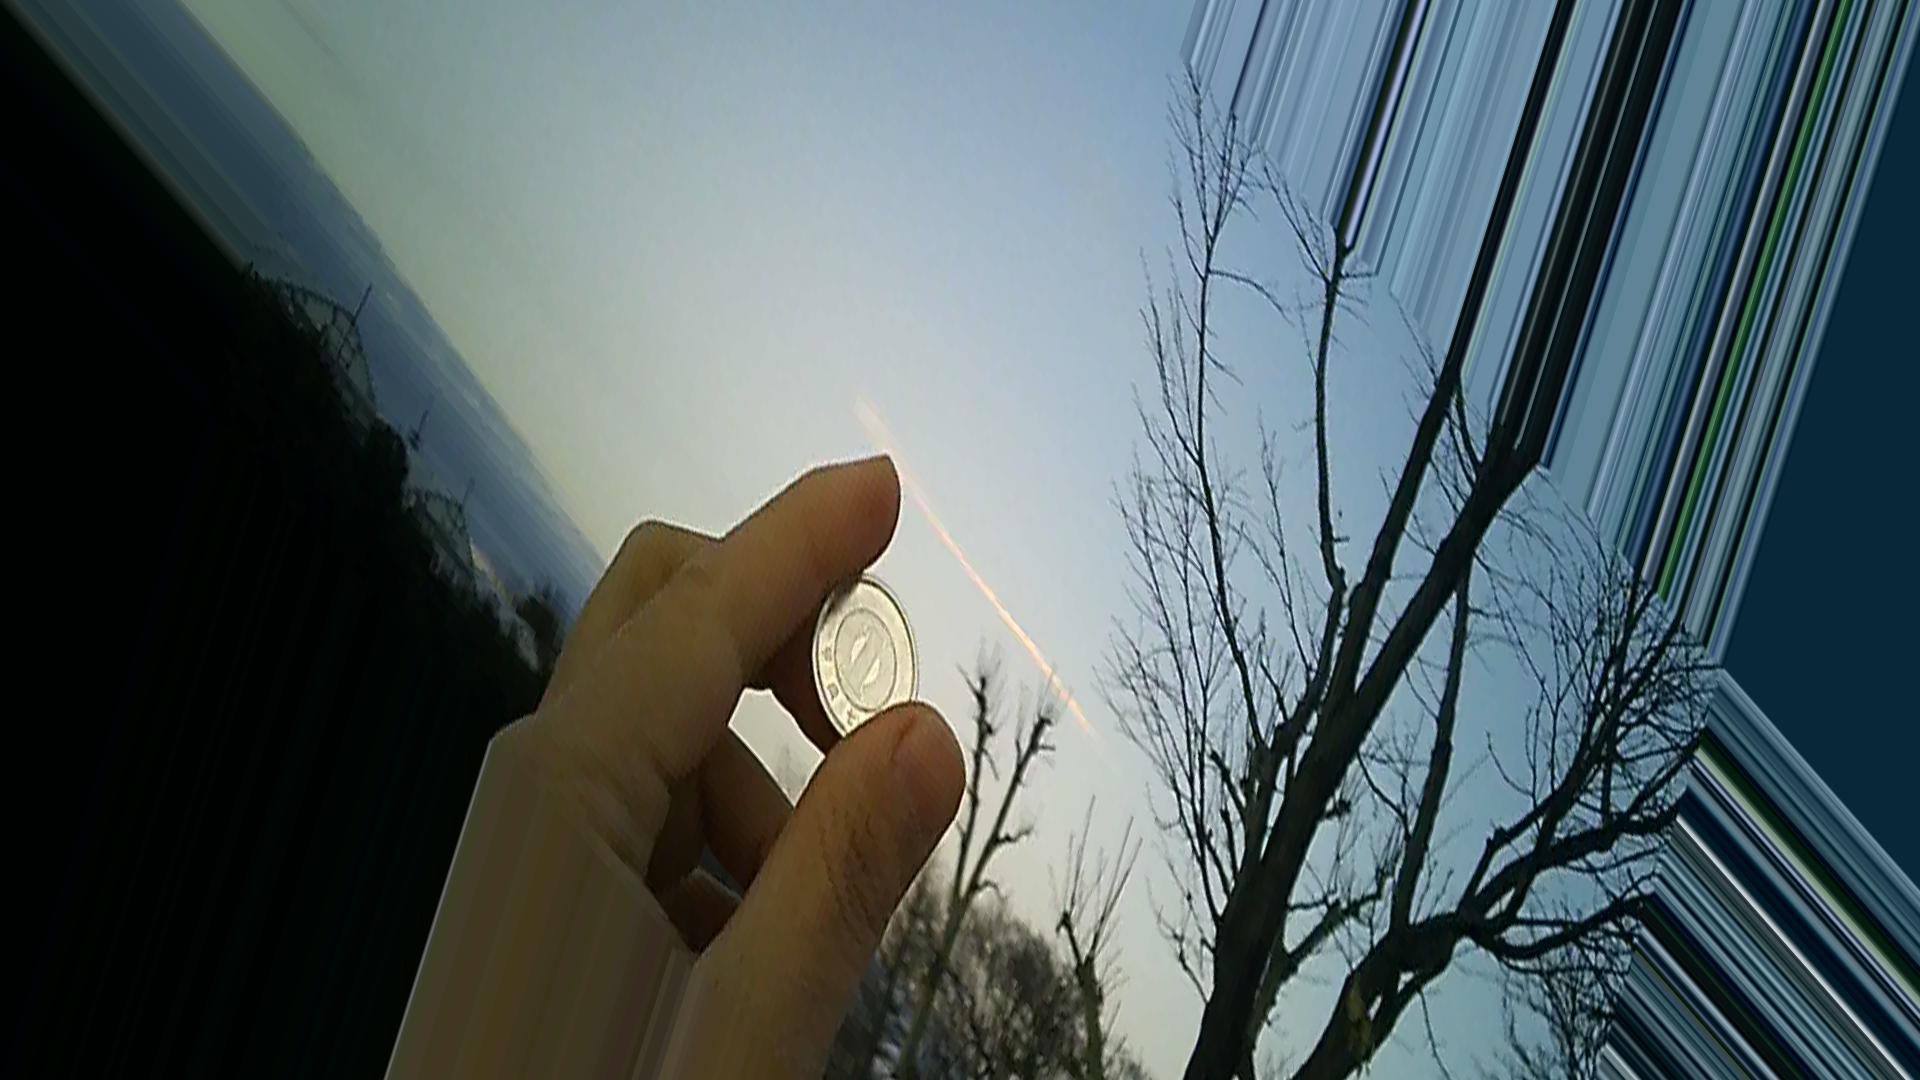1 Yen: (804, 566, 939, 738)
